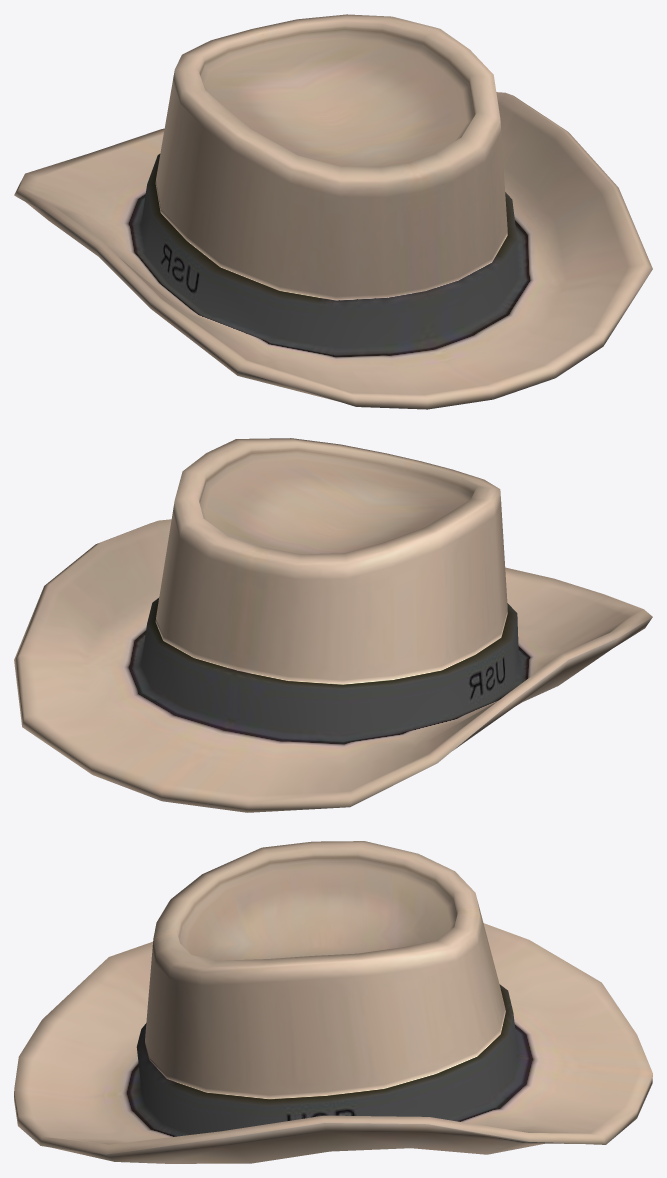
File: acc.glb
The picture shows the model from 3 angles, top to bottom: view 1: azimuth 30°, elevation 25°; view 2: azimuth 150°, elevation 25°; view 3: azimuth 270°, elevation 25°; orthographic projection. The views are drawn at different scales.
Parts seen in each view (by area): view 1: Handle; view 2: Handle; view 3: Handle.
Part boxes in pixels (<box>): Handle: <box>14,14,652,409</box>; Handle: <box>14,438,652,812</box>; Handle: <box>14,841,652,1163</box>.
Size of the model in its own units: 2.04 by 0.8832 by 2.48.
1 material, 1 textured.
